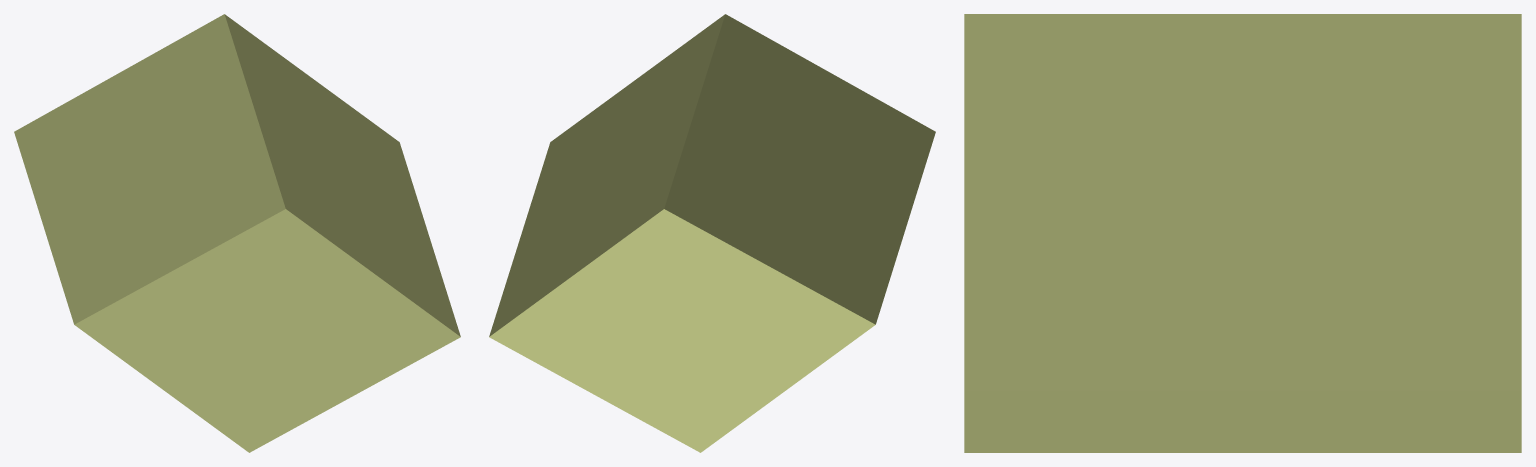
3 renders of one model, left to right at view 1: azimuth 30°, elevation 25°; view 2: azimuth 150°, elevation 25°; view 3: azimuth 270°, elevation 25°, orthographic. The views are drawn at different scales.
Parts seen in each view (by area): view 1: 0_1_0_0_0_1_2_1_1_0; view 2: 0_1_0_0_0_1_2_1_1_0; view 3: 0_1_0_0_0_1_2_1_1_0.
Part boxes in pixels (bbox=[...]): 0_1_0_0_0_1_2_1_1_0: bbox=[14, 14, 460, 452]; 0_1_0_0_0_1_2_1_1_0: bbox=[489, 14, 935, 452]; 0_1_0_0_0_1_2_1_1_0: bbox=[964, 14, 1521, 452].
Bounding box in the file's own units: 5.38 × 5.18 × 6.
